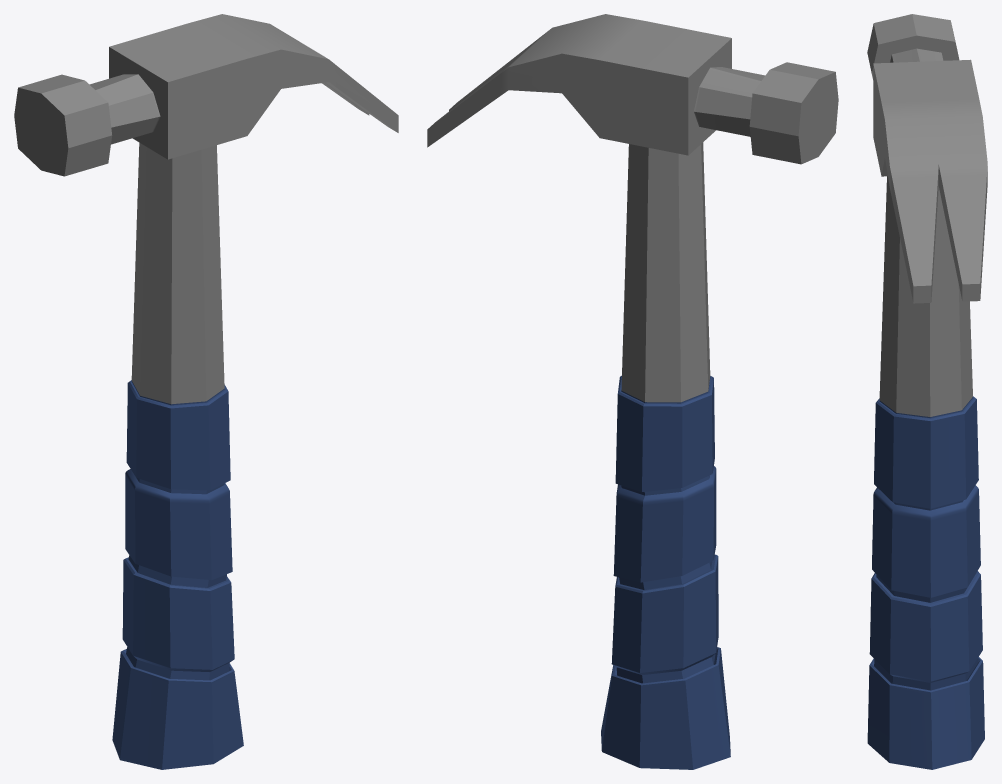
The model's file is Hammer_2.fbx.
3 renders of one model, left to right at view 1: azimuth 30°, elevation 25°; view 2: azimuth 150°, elevation 25°; view 3: azimuth 270°, elevation 25°, orthographic. The views are drawn at different scales.
Visible parts, largest first — view 1: Hammer; view 2: Hammer; view 3: Hammer.
Boxes of the visible parts, x1,y1,x2,y2 form: Hammer: (14, 14, 398, 769); Hammer: (427, 14, 838, 769); Hammer: (867, 14, 987, 769).
Size of the model in its own units: 4.36 by 7.94 by 1.31.
